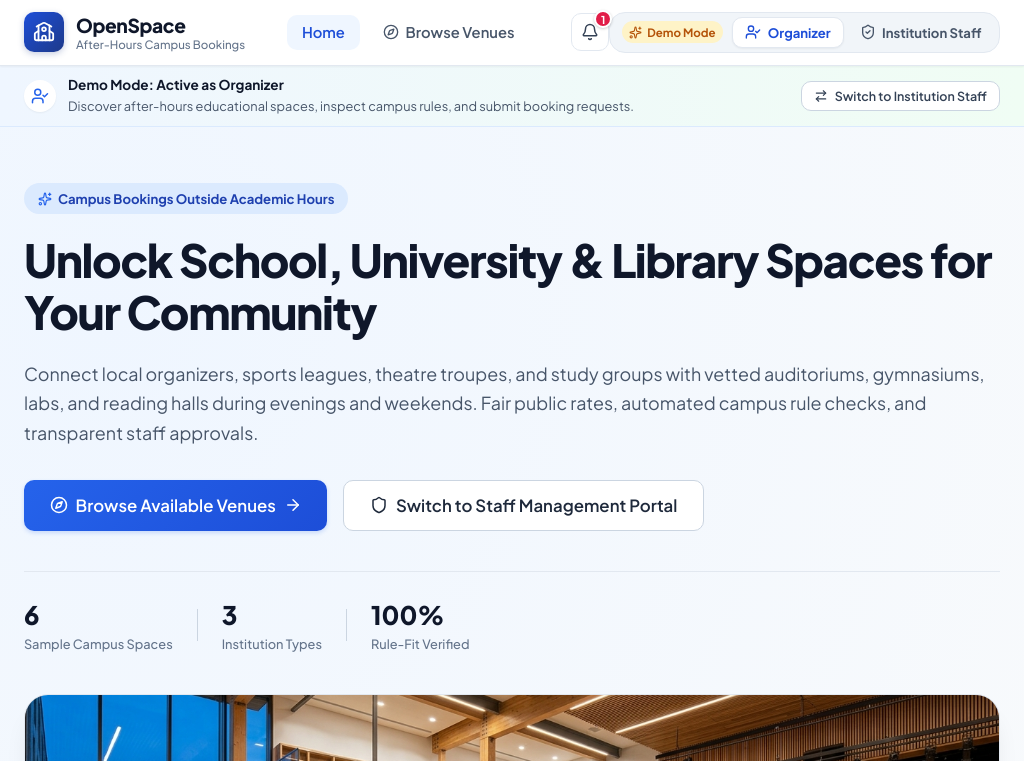
Test case: App Navigation and Shell Integration › navigates to Staff Dashboard when clicking Institution Staff role
Expected: the button "Browse Venues" is shown, [368, 15, 530, 50]
Expected: the button "staff dashboard" is not shown
Click the button with aria-label "switch to institution staff role": (921, 32) [848, 17, 993, 48]
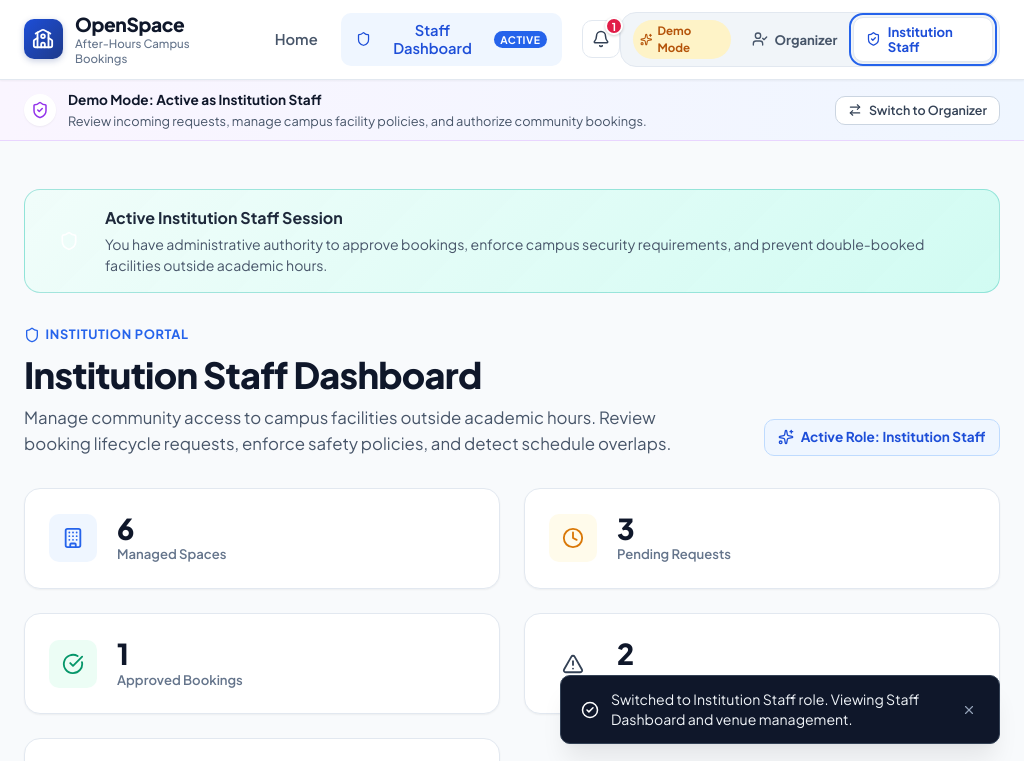
Expected: the heading "Institution Staff Dashboard" is shown, [24, 352, 481, 397]
Expected: the button "Staff Dashboard Active" is shown, [341, 13, 562, 66]
Expected: the button "Browse Venues" is gone
